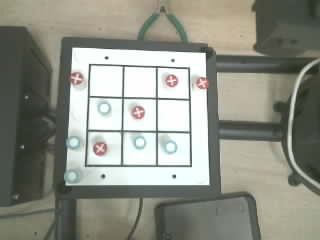blue circle: (64, 169, 80, 183), (98, 101, 111, 115), (66, 136, 80, 149), (164, 141, 177, 153), (134, 136, 145, 149)
board: (64, 48, 209, 185)
cells: (87, 132, 120, 164), (158, 133, 190, 165), (123, 132, 155, 164), (88, 98, 121, 129), (123, 99, 155, 130), (158, 100, 189, 131), (90, 66, 122, 96), (158, 68, 189, 98), (124, 67, 155, 97)
grid: (85, 64, 191, 166)
red cross: (131, 106, 145, 119), (70, 72, 83, 85), (93, 142, 106, 155), (165, 74, 178, 86), (196, 77, 208, 88)
